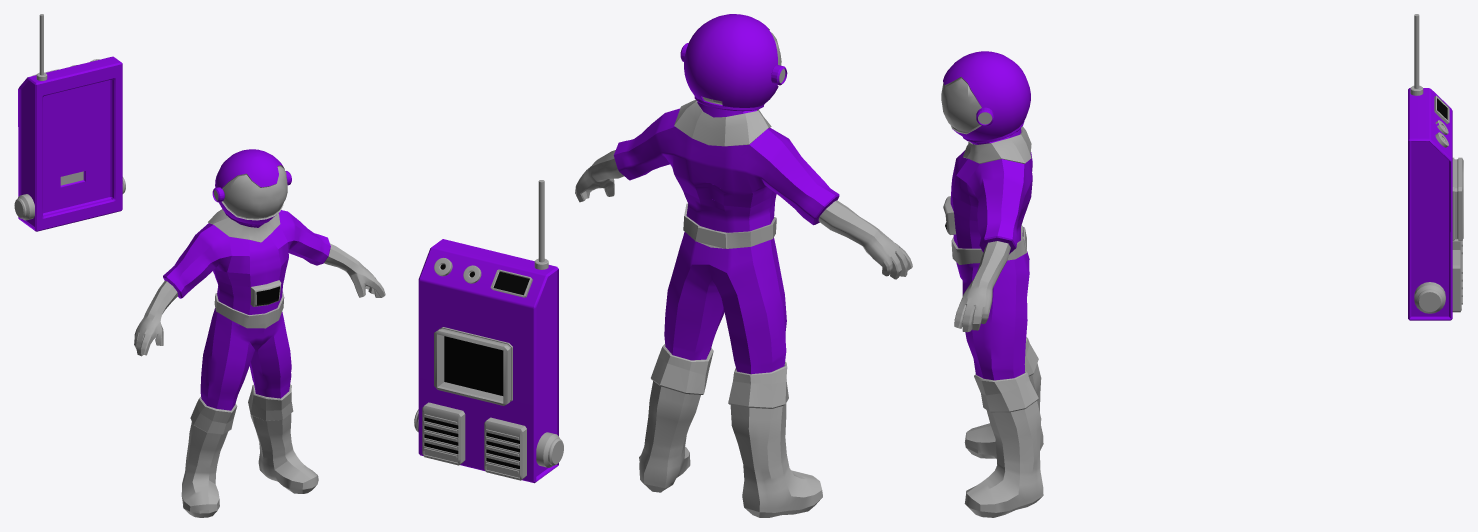
File: astro.fbx
3 renders of one model, left to right at view 1: azimuth 30°, elevation 25°; view 2: azimuth 150°, elevation 25°; view 3: azimuth 270°, elevation 25°, orthographic. The views are drawn at different scales.
Parts seen in each view (by area): view 1: polySurface11, backpack:polySurface12, backpack:polySurface14; view 2: polySurface11, backpack:polySurface12, backpack:polySurface17, backpack:polySurface15, backpack:polySurface16, backpack:polySurface18, backpack:polySurface14, backpack:polySurface13; view 3: polySurface11, backpack:polySurface12, backpack:polySurface17, backpack:polySurface21, backpack:polySurface15.
Part boxes in pixels (x1,y1,x2,y2): polySurface11: [134, 149, 385, 517]; backpack:polySurface12: [18, 56, 122, 231]; backpack:polySurface14: [14, 194, 34, 220]; polySurface11: [575, 14, 912, 517]; backpack:polySurface12: [418, 239, 558, 483]; backpack:polySurface17: [434, 327, 512, 405]; backpack:polySurface15: [422, 402, 465, 465]; backpack:polySurface16: [484, 417, 526, 480]; backpack:polySurface18: [490, 269, 532, 297]; backpack:polySurface14: [536, 432, 563, 467]; backpack:polySurface13: [534, 180, 548, 269]; polySurface11: [941, 51, 1043, 517]; backpack:polySurface12: [1408, 88, 1452, 320]; backpack:polySurface17: [1452, 157, 1463, 240]; backpack:polySurface21: [1414, 282, 1445, 313]; backpack:polySurface15: [1452, 250, 1462, 312].
Size of the model in its own units: 15.62 by 22.46 by 23.66.
